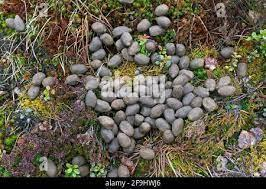Elk: (78, 56, 206, 128)
